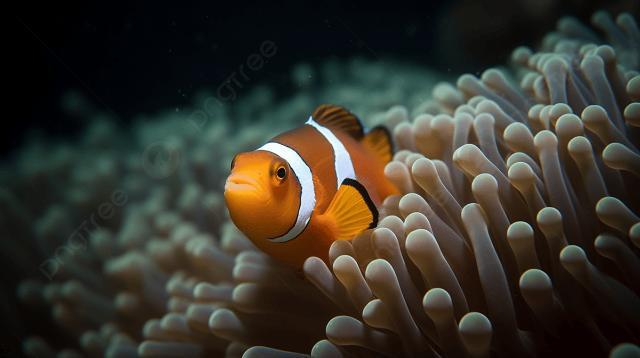Mulut: (216, 165, 268, 211)
Sirip Dada: (310, 172, 390, 258)
Sirip Punggung: (300, 96, 412, 182)
